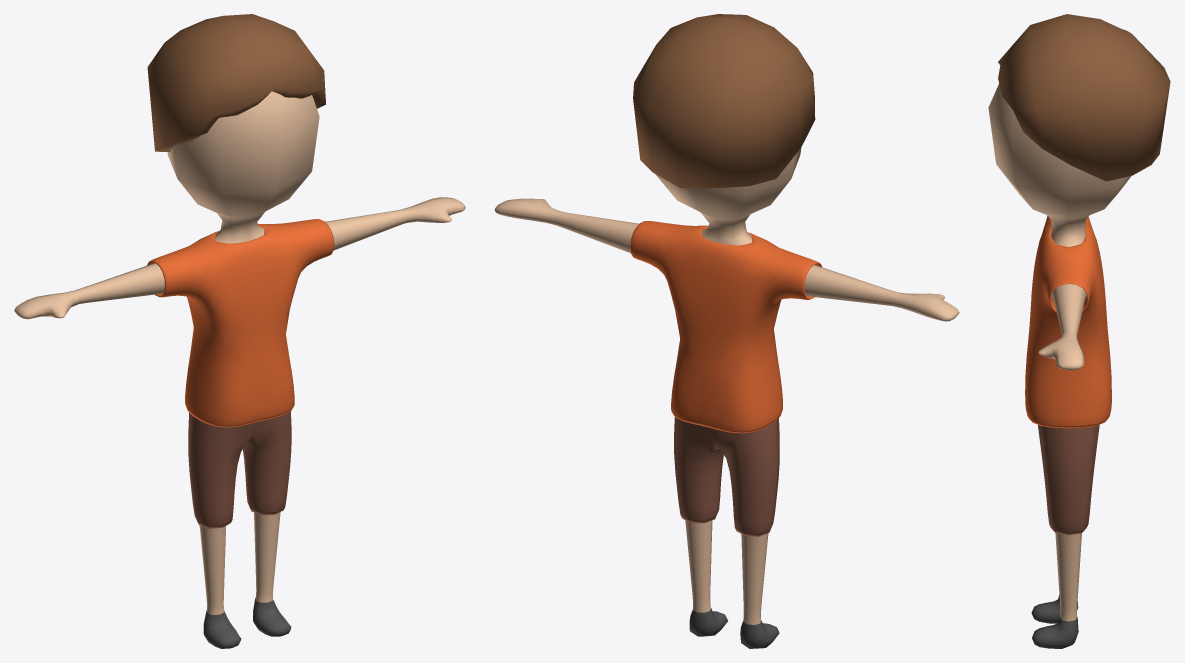
Rendered from body_man1.fbx.
3 renders of one model, left to right at view 1: azimuth 30°, elevation 25°; view 2: azimuth 150°, elevation 25°; view 3: azimuth 270°, elevation 25°, orthographic. The views are drawn at different scales.
Visible parts, largest first — view 1: body_man1, shirt_man1, hair_man1, pant_man1, shoe_man1; view 2: hair_man1, shirt_man1, body_man1, pant_man1, shoe_man1; view 3: hair_man1, shirt_man1, body_man1, pant_man1, shoe_man1.
Boxes of the visible parts, x1,y1,x2,y2 form: body_man1: [14, 91, 465, 614]; shirt_man1: [147, 219, 334, 427]; hair_man1: [147, 14, 325, 152]; pant_man1: [188, 411, 291, 528]; shoe_man1: [203, 598, 291, 648]; hair_man1: [633, 14, 815, 188]; shirt_man1: [630, 221, 822, 433]; body_man1: [494, 148, 959, 624]; pant_man1: [674, 417, 779, 536]; shoe_man1: [689, 608, 779, 648]; hair_man1: [998, 14, 1170, 181]; shirt_man1: [1025, 215, 1111, 428]; body_man1: [988, 83, 1131, 621]; pant_man1: [1038, 424, 1099, 535]; shoe_man1: [1031, 595, 1078, 648].
Bounding box in the file's own units: 156 × 204 × 55.16.
